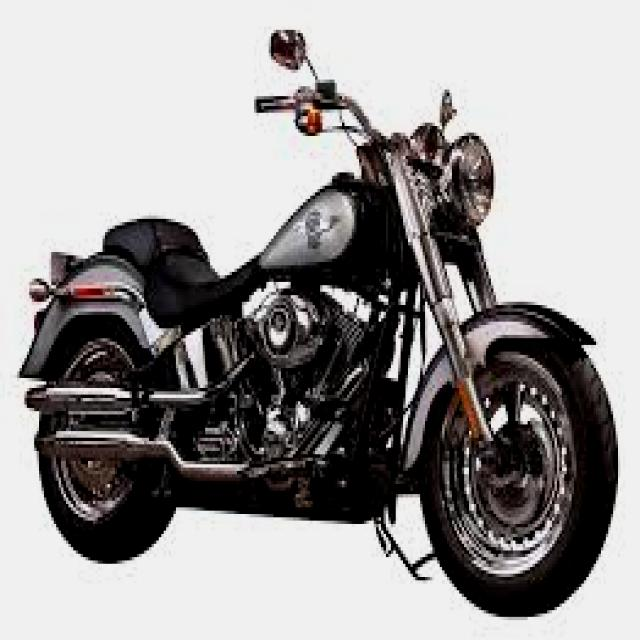MOTORCYCLE: (20, 124, 613, 606)
